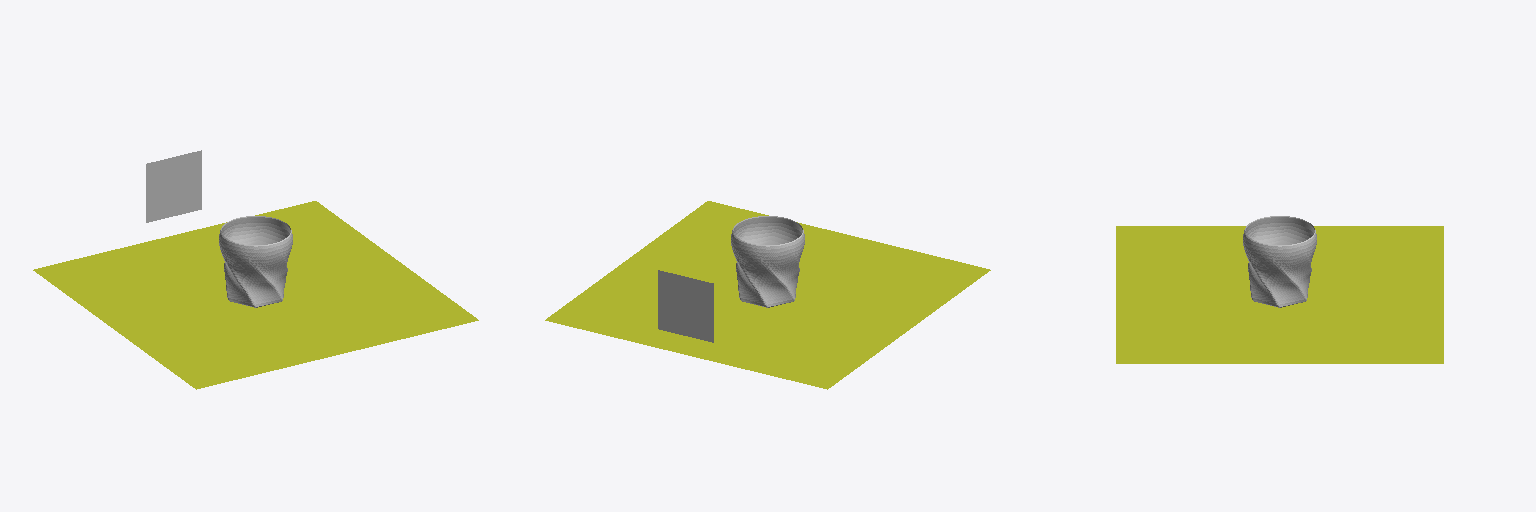
The model's file is glass.obj.
3 views of the same model, side by side, from view 1: azimuth 30°, elevation 25°; view 2: azimuth 150°, elevation 25°; view 3: azimuth 270°, elevation 25° (orthographic).
Parts seen in each view (by area): view 1: Plane, Glass, Light; view 2: Plane, Glass, Light; view 3: Plane, Glass.
Boxes of the visible parts, x1,y1,x2,y2 form: Plane: [33, 201, 478, 389]; Glass: [219, 216, 292, 307]; Light: [146, 150, 201, 222]; Plane: [545, 201, 990, 389]; Glass: [731, 216, 804, 307]; Light: [658, 270, 713, 342]; Plane: [1116, 226, 1443, 363]; Glass: [1243, 216, 1316, 307].
Size of the model in its own units: 10 by 2.64 by 10.